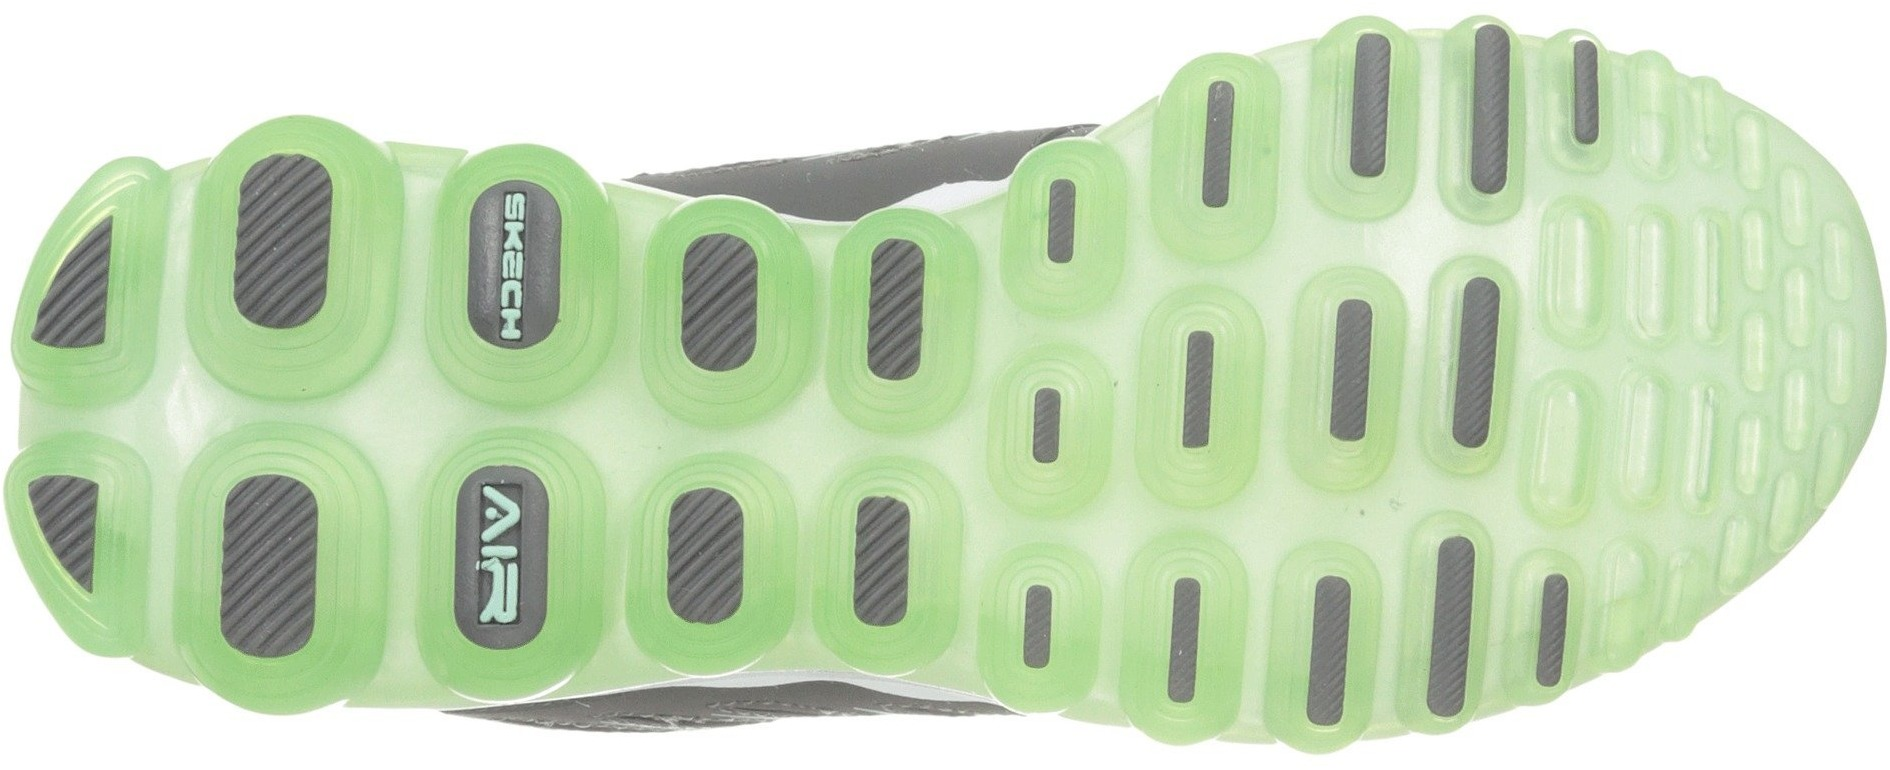circle: (1571, 210, 1845, 495), (160, 421, 394, 713), (1135, 269, 1404, 523), (1098, 528, 1381, 769), (1295, 1, 1549, 255), (417, 135, 640, 421), (406, 423, 621, 709), (647, 180, 810, 452), (630, 462, 808, 680), (815, 451, 978, 684)
line: (1571, 210, 1845, 495), (160, 421, 394, 713), (1135, 269, 1404, 523), (1098, 528, 1381, 769), (1295, 1, 1549, 255), (5, 133, 195, 408), (647, 180, 810, 452), (630, 462, 808, 680), (815, 451, 978, 684), (6, 425, 155, 676)
quad: (1571, 210, 1845, 495), (160, 421, 394, 713), (1135, 269, 1404, 523), (1098, 528, 1381, 769), (1295, 1, 1549, 255), (815, 451, 978, 684)
text: (417, 135, 640, 421), (406, 423, 621, 709)
triangle: (5, 133, 195, 408), (6, 425, 155, 676)
